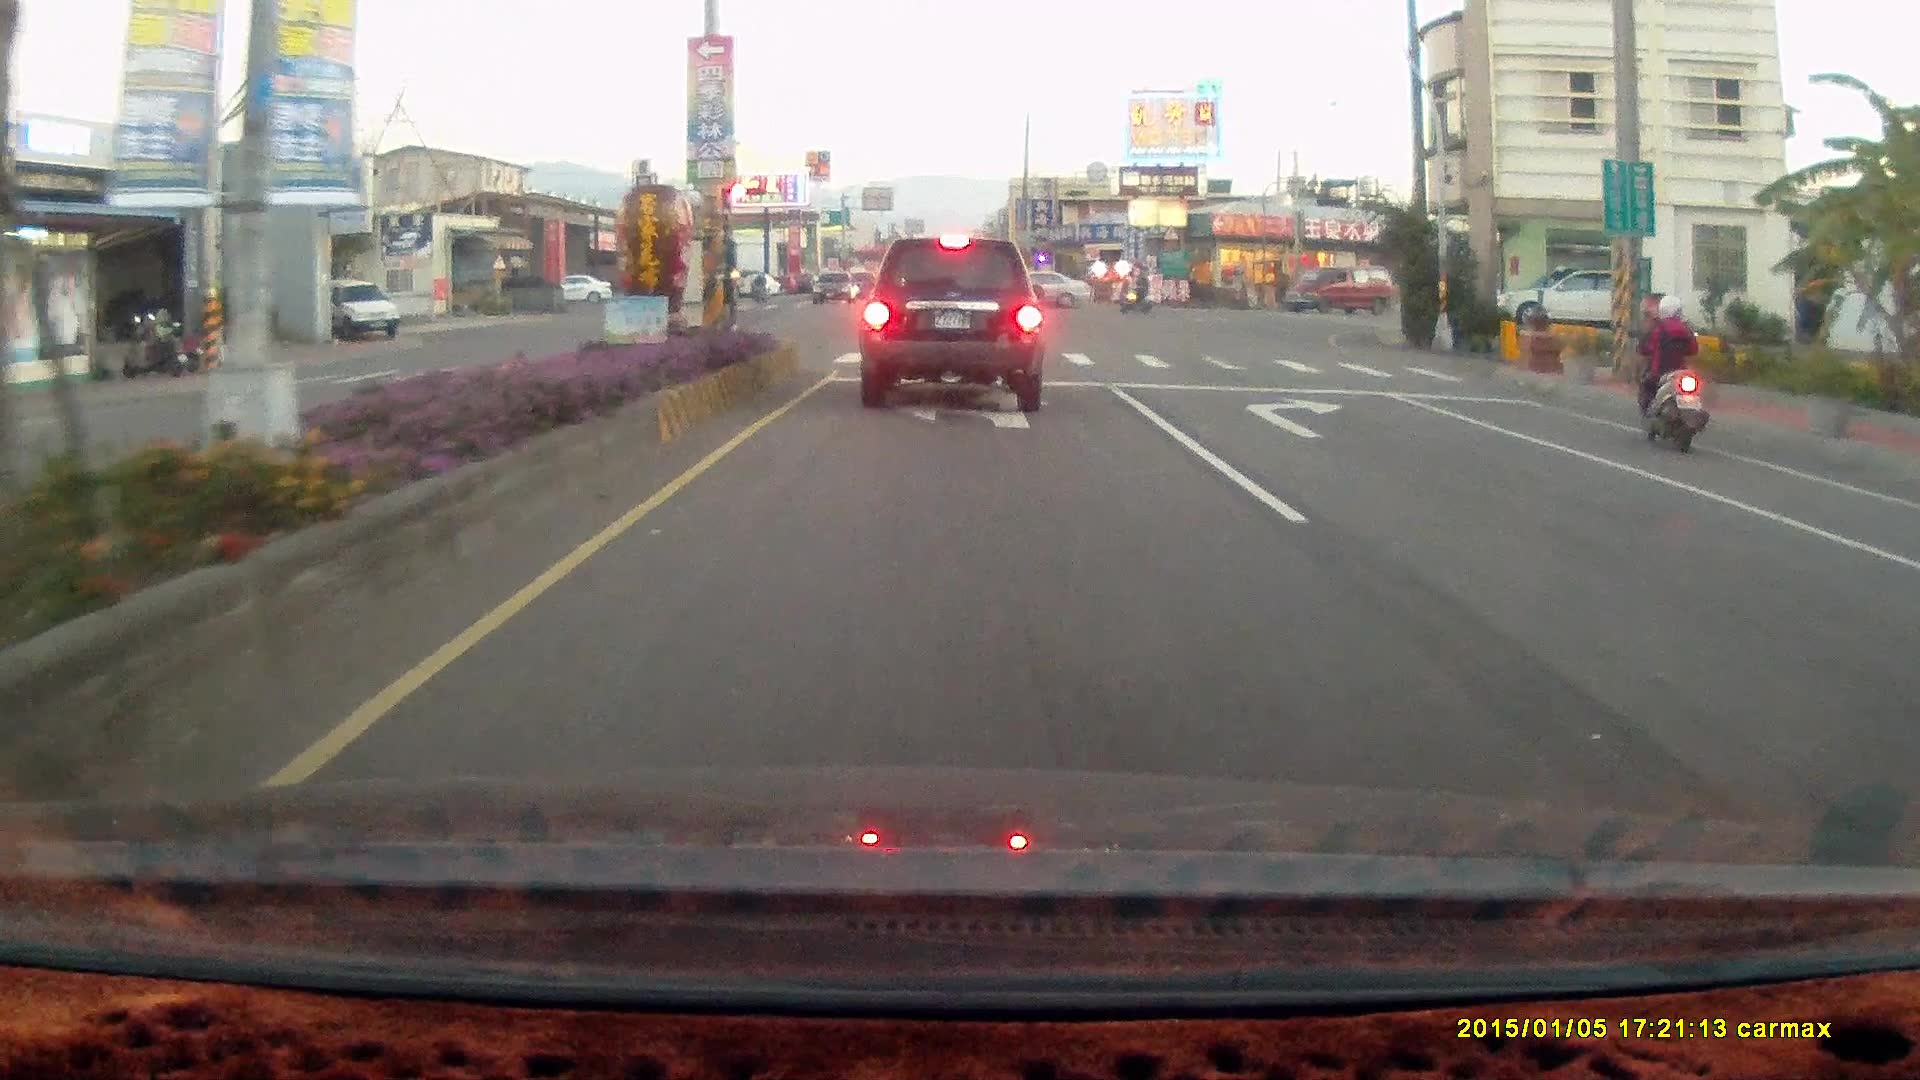rider: (1632, 289, 1709, 453), (1118, 271, 1153, 313)
vehicle: (858, 235, 1046, 412), (1495, 263, 1654, 330), (1495, 268, 1623, 332), (1896, 493, 1920, 836), (1883, 528, 1920, 690), (1283, 263, 1393, 312), (318, 278, 404, 342), (979, 270, 1089, 315), (981, 267, 1090, 310), (1286, 268, 1385, 315)
